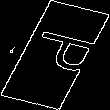P_E: (10, 29, 100, 81)
